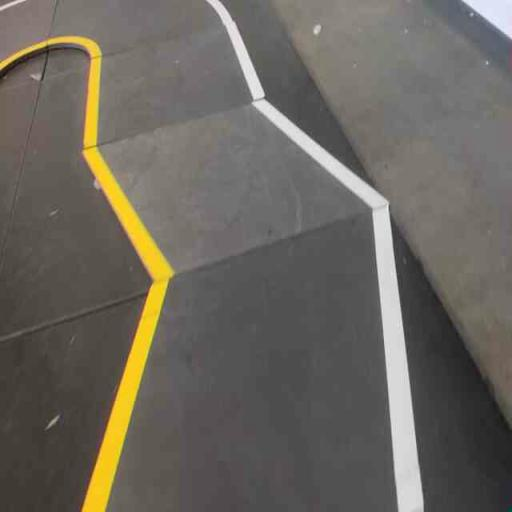crossleft: (77, 196, 429, 511)
